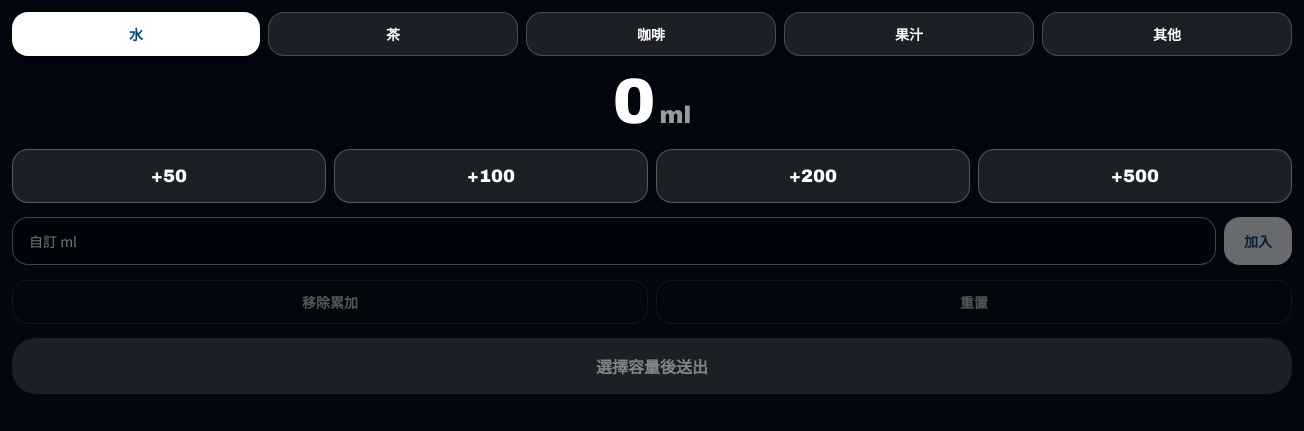
Test: DrinkLogger — accumulator › shows detail row with history
Click the button "+500" at {"x": 1135, "y": 176}, box [978,149,1292,203]
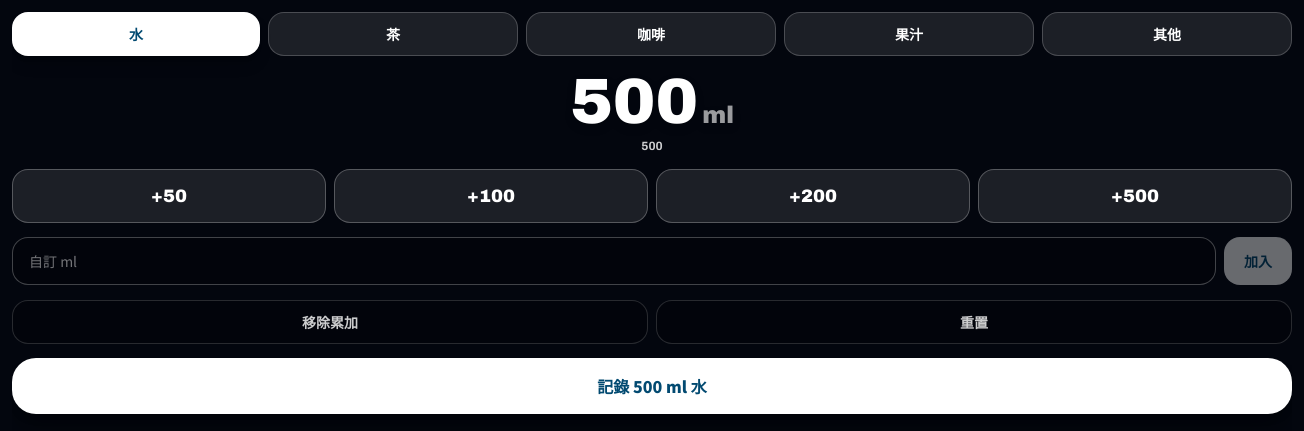
Click the button "+200" at {"x": 813, "y": 196}, box [656,169,970,223]
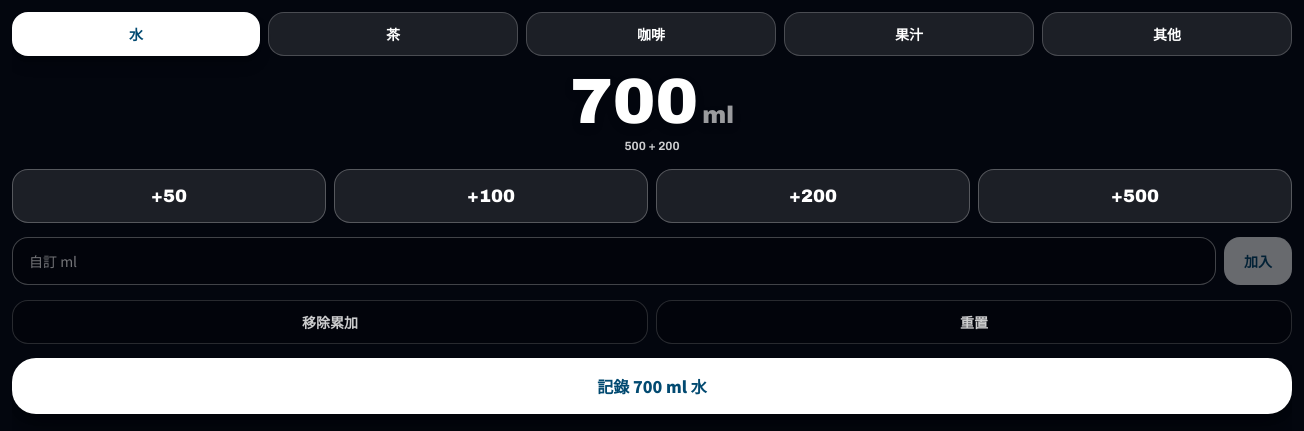
Check: the text "500 + 200" is shown, box [624,139,680,153]
